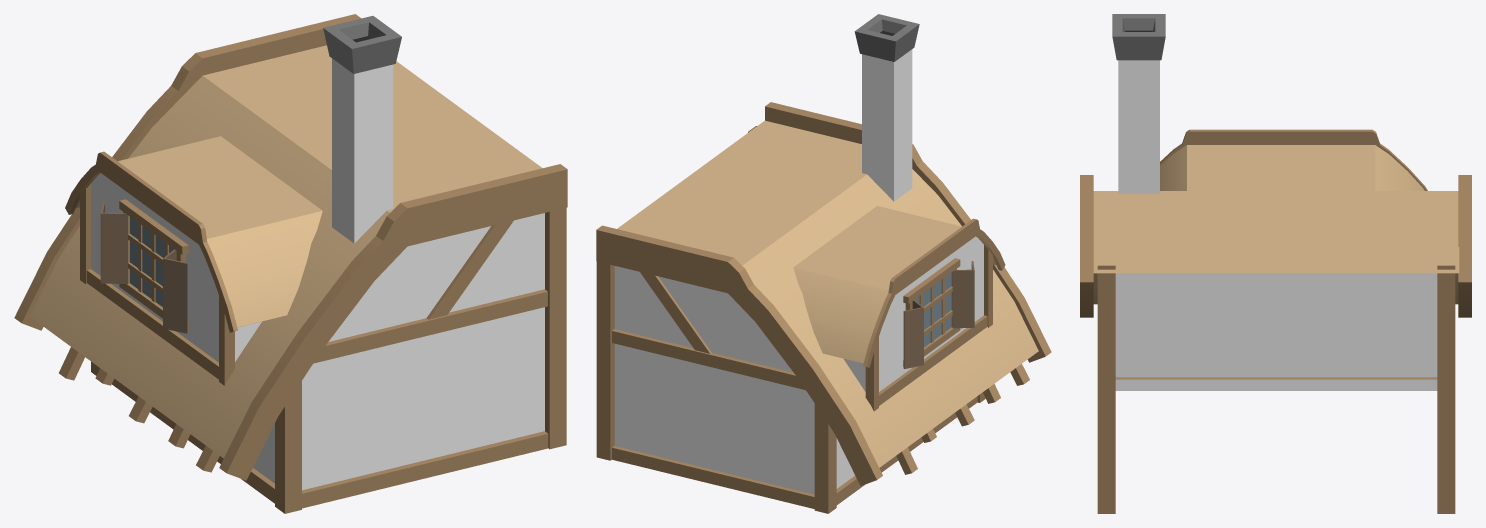
The model's file is House_02.gltf.
The picture shows the model from 3 angles, left to right: view 1: azimuth 30°, elevation 25°; view 2: azimuth 150°, elevation 25°; view 3: azimuth 270°, elevation 25°; orthographic projection. The views are drawn at different scales.
Visible parts, largest first — view 1: pCube4926; view 2: pCube4926; view 3: pCube4926.
Part boxes in pixels (bbox=[...]): pCube4926: bbox=[14, 14, 567, 513]; pCube4926: bbox=[596, 14, 1051, 513]; pCube4926: bbox=[1080, 14, 1471, 513].
Size of the model in its own units: 9.12 by 10.99 by 9.59.
